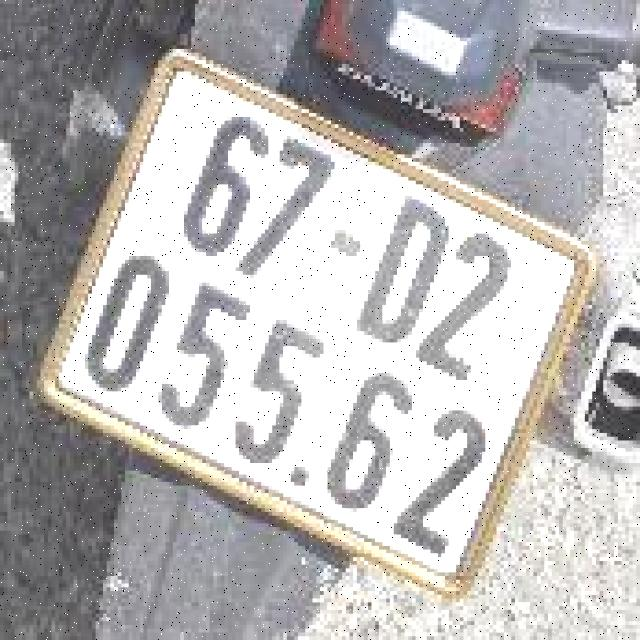0: (72, 240, 190, 403)
2: (401, 215, 538, 394), (380, 394, 512, 570)
5: (137, 267, 279, 443), (218, 307, 347, 475)
6: (305, 355, 435, 527), (165, 100, 286, 272)
7: (223, 131, 345, 292)
D: (342, 185, 464, 359)
